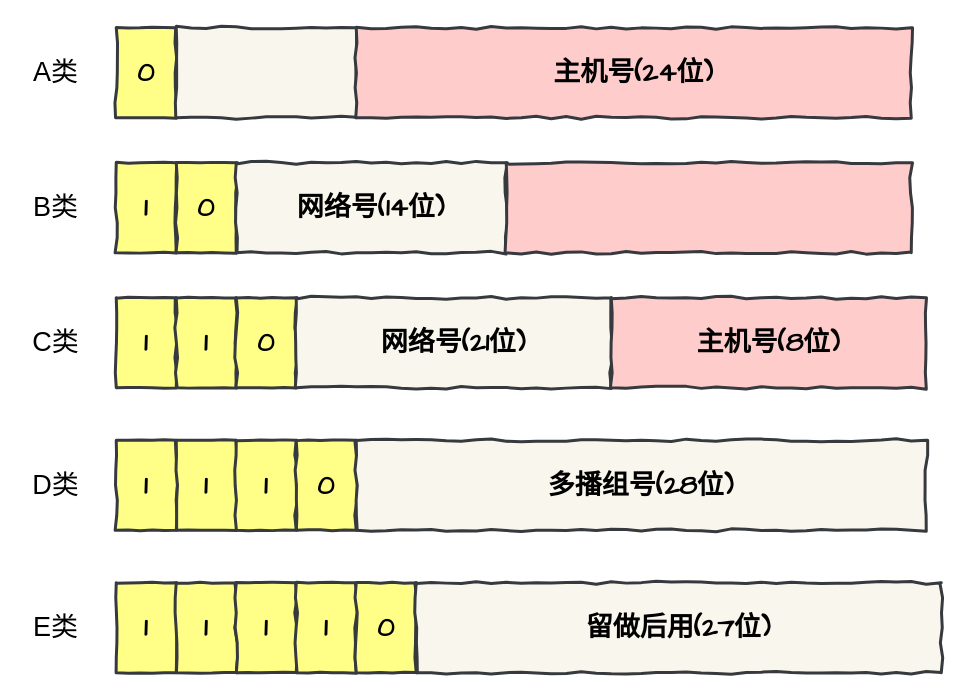
The diagram is 968 pixels wide and 699 high, and some of its shapes have lost their labels. The centre of each missing label's shape, as x and y in pixels:
主机号(16位): (708,207)
网络号(7位): (265,72)
